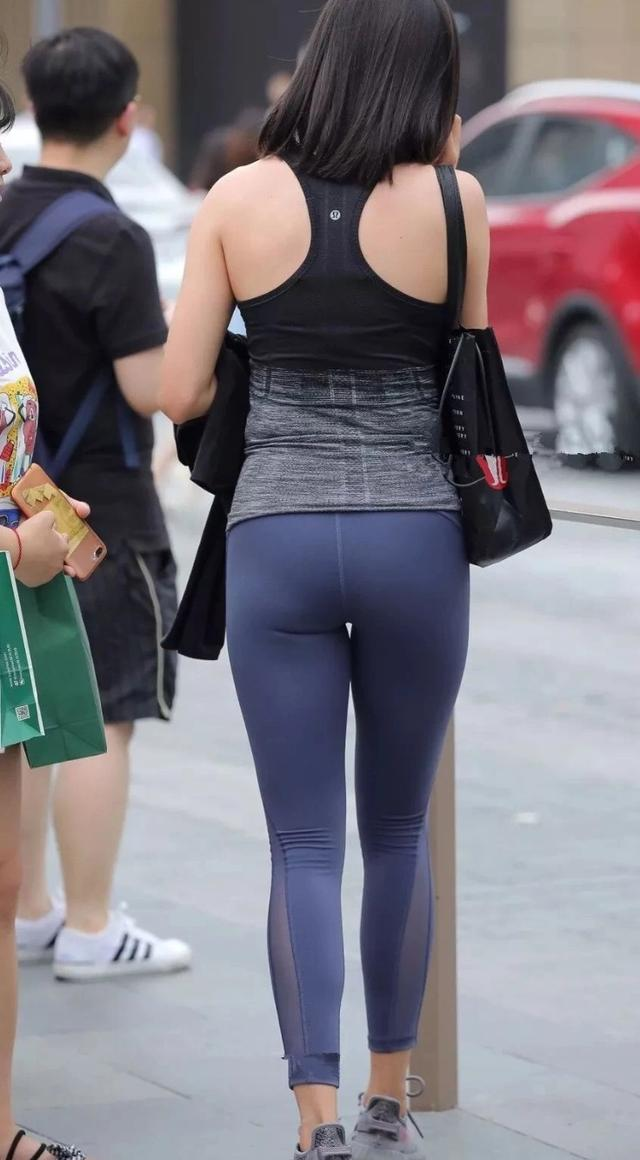person: (190, 1, 533, 891)
